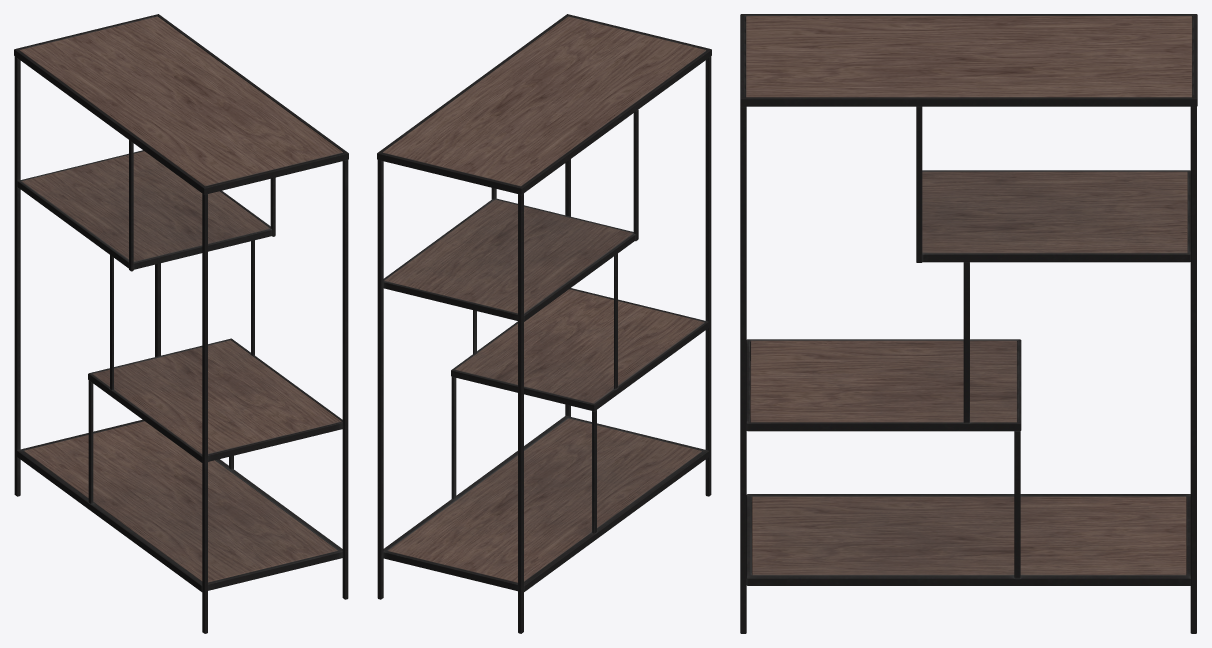
Rendered from SM_MultipleShelvesTrioS.fbx.
3 renders of one model, left to right at view 1: azimuth 30°, elevation 25°; view 2: azimuth 150°, elevation 25°; view 3: azimuth 270°, elevation 25°, orthographic. The views are drawn at different scales.
Visible parts, largest first — view 1: SM_MultipleShelvesTrioS_LOD0; view 2: SM_MultipleShelvesTrioS_LOD0; view 3: SM_MultipleShelvesTrioS_LOD0.
Boxes of the visible parts, bbox=[...] form: SM_MultipleShelvesTrioS_LOD0: bbox=[14, 14, 348, 633]; SM_MultipleShelvesTrioS_LOD0: bbox=[377, 14, 711, 633]; SM_MultipleShelvesTrioS_LOD0: bbox=[740, 14, 1197, 633].
Bounding box in the file's own units: 88.76 × 202 × 261.
1 material, 1 textured.
